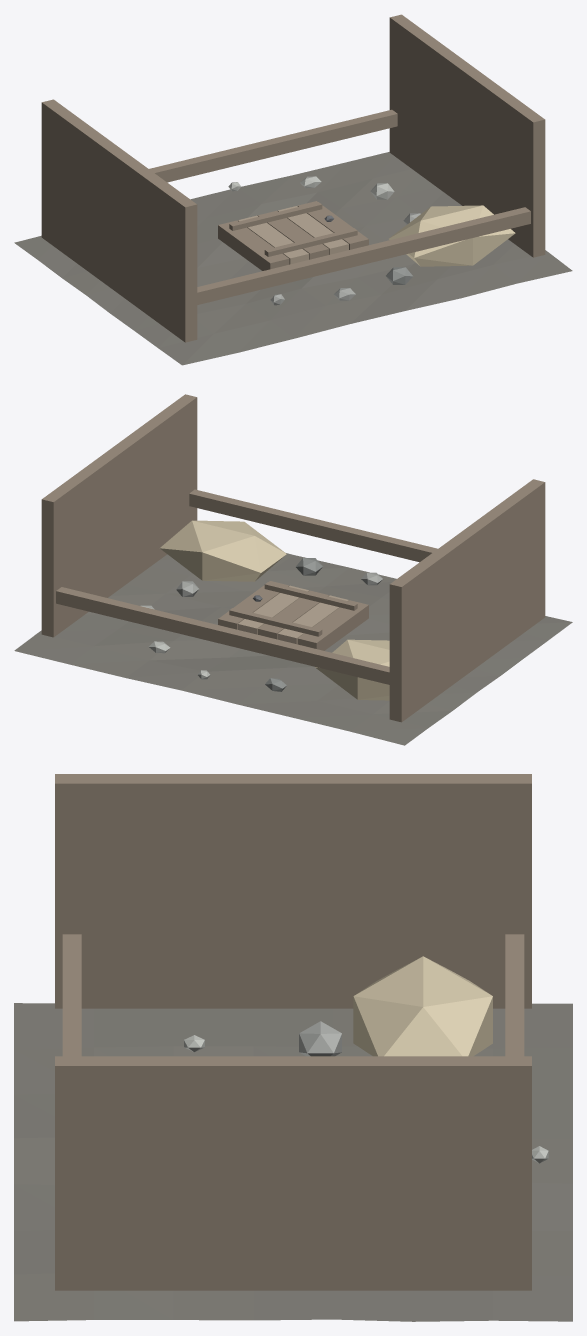
File: straw_barn_hatch_sealed.glb
3 views of the same model, one above another, from view 1: azimuth 30°, elevation 25°; view 2: azimuth 150°, elevation 25°; view 3: azimuth 270°, elevation 25° (orthographic). The views are drawn at different scales.
Parts seen in each view (by area): view 1: straw_barn_hatch_sealed_color_04, straw_barn_hatch_sealed_color_00, straw_barn_hatch_sealed_color_05, straw_barn_hatch_sealed_color_06, straw_barn_hatch_sealed_color_02, straw_barn_hatch_sealed_color_01; view 2: straw_barn_hatch_sealed_color_04, straw_barn_hatch_sealed_color_00, straw_barn_hatch_sealed_color_05, straw_barn_hatch_sealed_color_06, straw_barn_hatch_sealed_color_03, straw_barn_hatch_sealed_color_01; view 3: straw_barn_hatch_sealed_color_04, straw_barn_hatch_sealed_color_00, straw_barn_hatch_sealed_color_05, straw_barn_hatch_sealed_color_01.
Boxes of the visible parts, <box> form: straw_barn_hatch_sealed_color_04: <box>41,14,545,342</box>; straw_barn_hatch_sealed_color_00: <box>14,152,572,365</box>; straw_barn_hatch_sealed_color_05: <box>389,205,515,266</box>; straw_barn_hatch_sealed_color_06: <box>238,206,348,264</box>; straw_barn_hatch_sealed_color_02: <box>228,176,394,199</box>; straw_barn_hatch_sealed_color_01: <box>270,213,420,305</box>; straw_barn_hatch_sealed_color_04: <box>41,394,545,722</box>; straw_barn_hatch_sealed_color_00: <box>14,553,572,745</box>; straw_barn_hatch_sealed_color_05: <box>160,520,389,700</box>; straw_barn_hatch_sealed_color_06: <box>238,585,348,644</box>; straw_barn_hatch_sealed_color_03: <box>265,558,322,691</box>; straw_barn_hatch_sealed_color_01: <box>176,572,382,596</box>; straw_barn_hatch_sealed_color_04: <box>55,774,531,1290</box>; straw_barn_hatch_sealed_color_00: <box>14,1003,572,1321</box>; straw_barn_hatch_sealed_color_05: <box>353,956,492,1056</box>; straw_barn_hatch_sealed_color_01: <box>299,1021,341,1056</box>.
Bounding box in the file's own units: 3.93 × 1.42 × 2.93.
